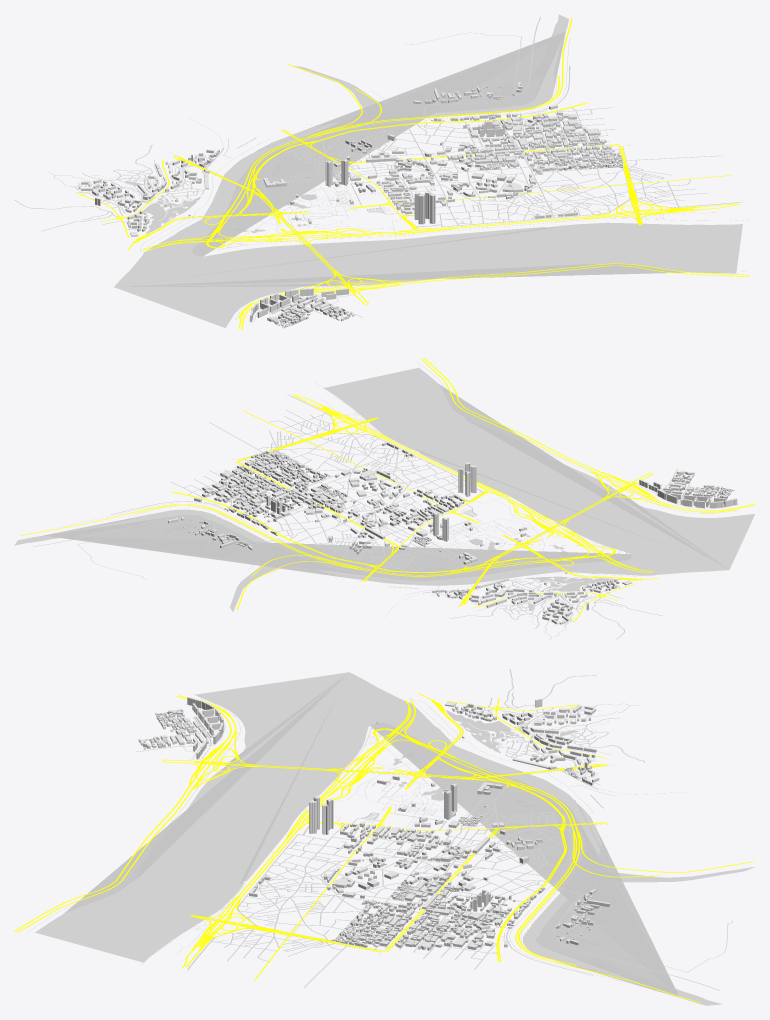
The model's file is UIArcadiaMap.fbx.
3 renders of one model, top to bottom at view 1: azimuth 30°, elevation 25°; view 2: azimuth 150°, elevation 25°; view 3: azimuth 270°, elevation 25°, orthographic. The views are drawn at different scales.
Parts seen in each view (by area): view 1: HolographicMap, SectionA, SectionB, SectionC; view 2: HolographicMap, SectionA, SectionC, SectionB; view 3: HolographicMap, SectionA, SectionC, SectionB.
Part boxes in pixels (x1,y1,x2,y2): HolographicMap: (14, 14, 749, 329); SectionA: (463, 110, 622, 174); SectionB: (250, 288, 354, 328); SectionC: (78, 149, 219, 236); HolographicMap: (14, 358, 755, 640); SectionA: (202, 449, 347, 521); SectionC: (432, 572, 632, 624); SectionB: (639, 470, 737, 508); HolographicMap: (14, 669, 755, 1005); SectionA: (331, 878, 515, 950); SectionC: (445, 698, 599, 785); SectionB: (138, 697, 223, 759).
Size of the model in its own units: 46.25 by 2.21 by 43.4.
